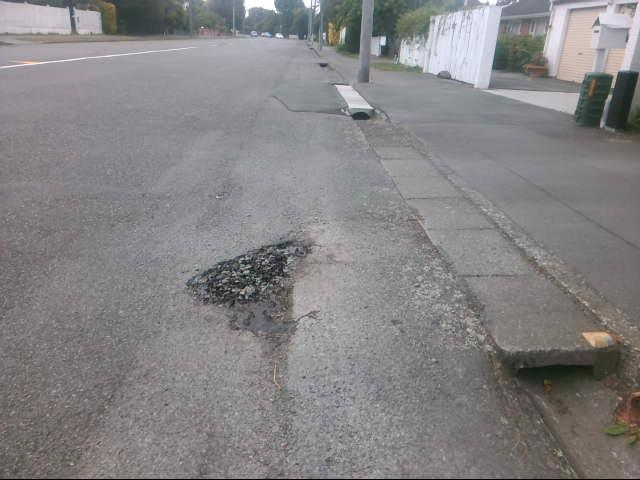pothole: (193, 240, 305, 308)
